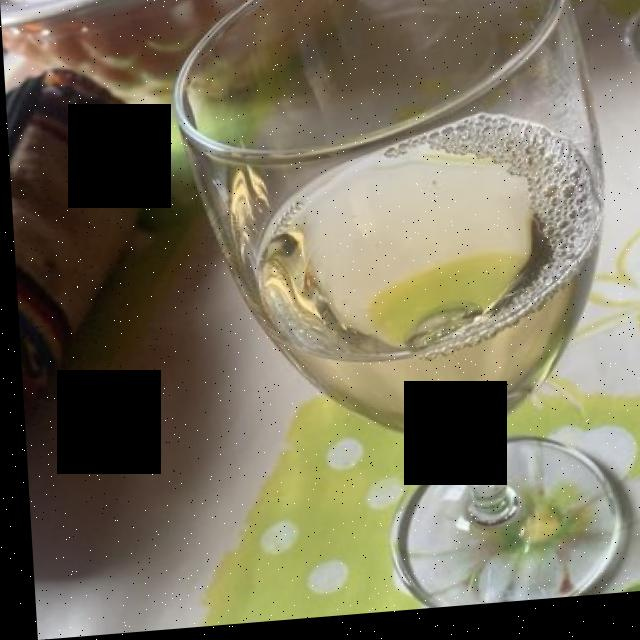wine-white: (256, 173, 583, 448)
